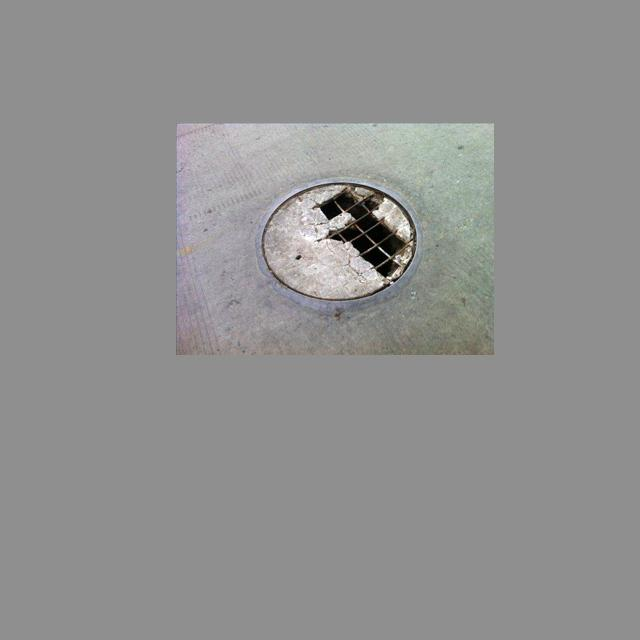broke: (249, 174, 433, 311)
